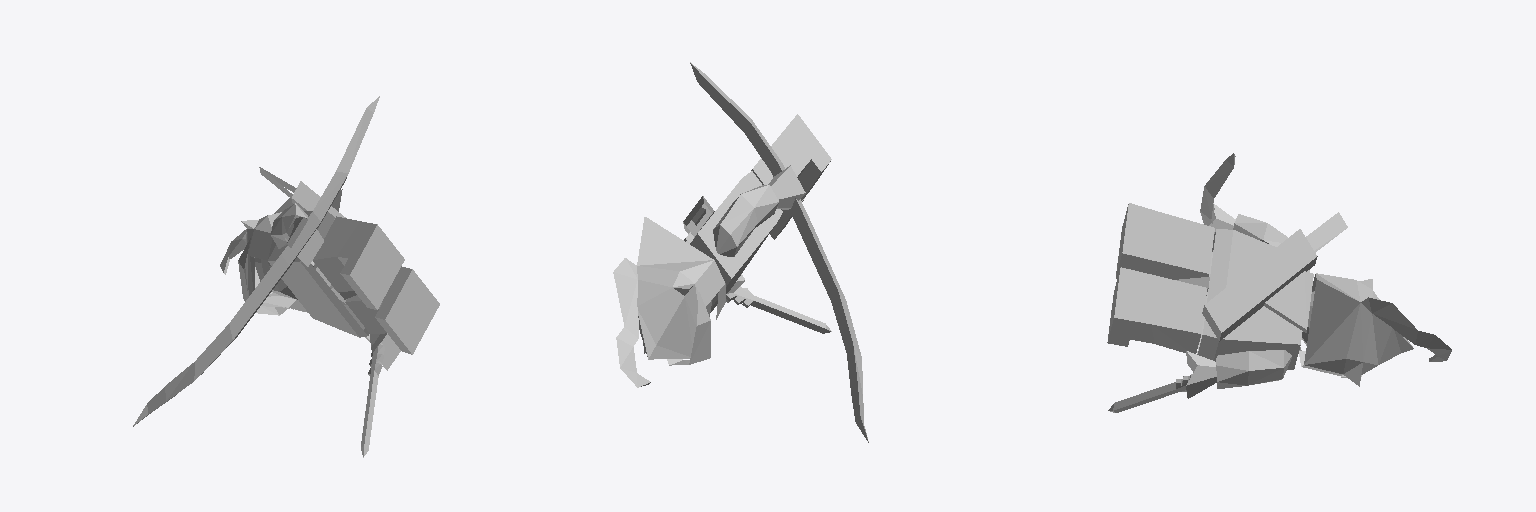
The model's file is archer.obj.
3 renders of one model, left to right at view 1: azimuth 30°, elevation 25°; view 2: azimuth 150°, elevation 25°; view 3: azimuth 270°, elevation 25°, orthographic.
Parts seen in each view (by area): view 1: mesh_165, mesh_172, mesh_169, mesh_162, mesh_161, mesh_175, mesh_166, mesh_164, mesh_171, mesh_173, mesh_174; view 2: mesh_169, mesh_172, mesh_165, mesh_164, mesh_163, mesh_175, mesh_171, mesh_170, mesh_166; view 3: mesh_165, mesh_169, mesh_166, mesh_163, mesh_164, mesh_161, mesh_174, mesh_175, mesh_172, mesh_170.
Boxes of the visible parts, x1=… form: mesh_165: x1=313, y1=216, x2=439, y2=354; mesh_172: x1=133, y1=96, x2=379, y2=426; mesh_169: x1=238, y1=189, x2=342, y2=315; mesh_162: x1=268, y1=261, x2=359, y2=337; mesh_161: x1=300, y1=212, x2=369, y2=337; mesh_175: x1=361, y1=342, x2=384, y2=449; mesh_166: x1=259, y1=167, x2=345, y2=217; mesh_164: x1=271, y1=203, x2=369, y2=341; mesh_171: x1=287, y1=217, x2=323, y2=266; mesh_173: x1=281, y1=212, x2=320, y2=265; mesh_174: x1=370, y1=333, x2=400, y2=370; mesh_169: x1=613, y1=217, x2=725, y2=365; mesh_172: x1=690, y1=62, x2=868, y2=442; mesh_165: x1=751, y1=114, x2=831, y2=239; mesh_164: x1=713, y1=184, x2=778, y2=256; mesh_163: x1=690, y1=178, x2=776, y2=307; mesh_175: x1=726, y1=286, x2=825, y2=333; mesh_171: x1=768, y1=165, x2=805, y2=209; mesh_170: x1=616, y1=327, x2=650, y2=387; mesh_166: x1=683, y1=196, x2=714, y2=243; mesh_165: x1=1107, y1=203, x2=1214, y2=353; mesh_169: x1=1299, y1=273, x2=1417, y2=386; mesh_166: x1=1202, y1=212, x2=1347, y2=341; mesh_163: x1=1214, y1=230, x2=1309, y2=369; mesh_164: x1=1216, y1=214, x2=1291, y2=388; mesh_161: x1=1177, y1=229, x2=1232, y2=360; mesh_174: x1=1186, y1=351, x2=1216, y2=398; mesh_175: x1=1113, y1=374, x2=1191, y2=412; mesh_172: x1=1200, y1=153, x2=1301, y2=350; mesh_170: x1=1415, y1=331, x2=1451, y2=361.
Bounding box in the file's own units: 3.01 × 3.9 × 4.